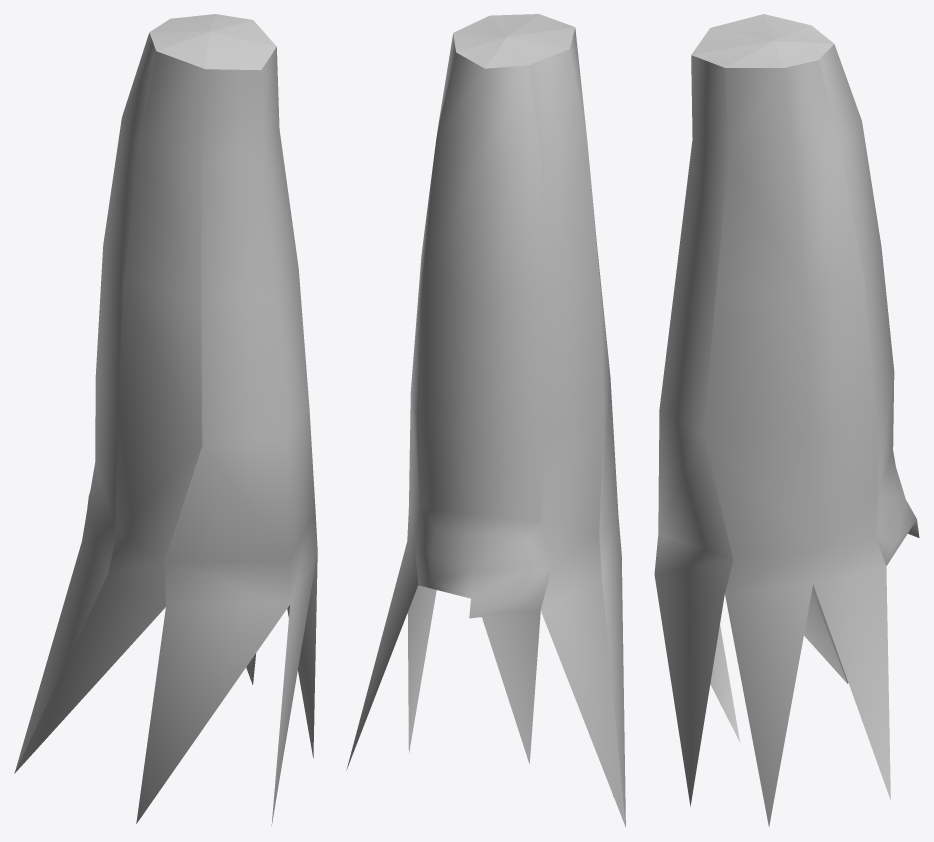
File: right_leg.glb
3 renders of one model, left to right at view 1: azimuth 30°, elevation 25°; view 2: azimuth 150°, elevation 25°; view 3: azimuth 270°, elevation 25°, orthographic.
Parts seen in each view (by area): view 1: trousers-white_RIGHT_LEG; view 2: trousers-white_RIGHT_LEG; view 3: trousers-white_RIGHT_LEG.
Boxes of the visible parts, bbox=[...] form: trousers-white_RIGHT_LEG: bbox=[14, 14, 317, 825]; trousers-white_RIGHT_LEG: bbox=[346, 14, 625, 827]; trousers-white_RIGHT_LEG: bbox=[654, 14, 919, 827].
Size of the model in its own units: 0.2181 by 0.6158 by 0.1954.
Materials: 1 (1 with a texture image).
